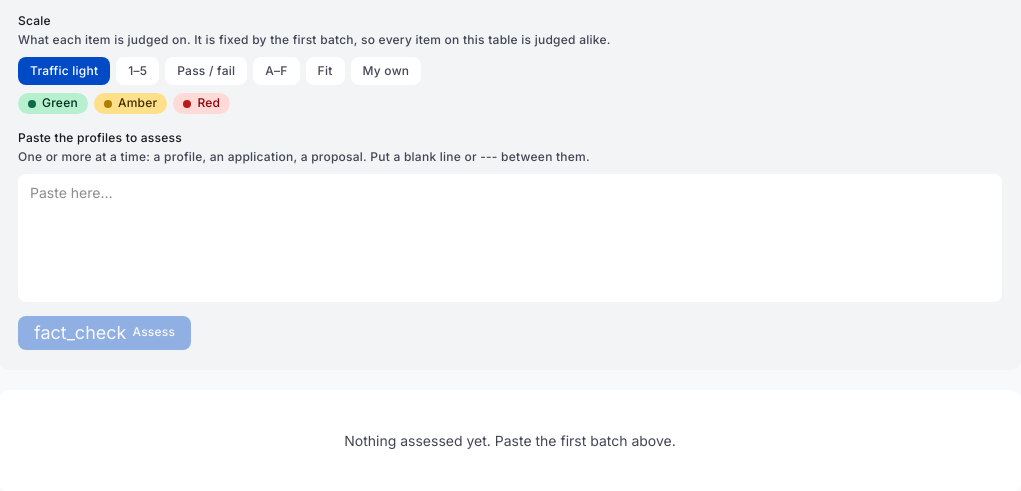
Test: the Assess stage (client, 25 Oct) › asks for a scale and a paste, and sends both
Click the radio button labelled "1–5". click: [138, 71]
box: [116,57,159,85]
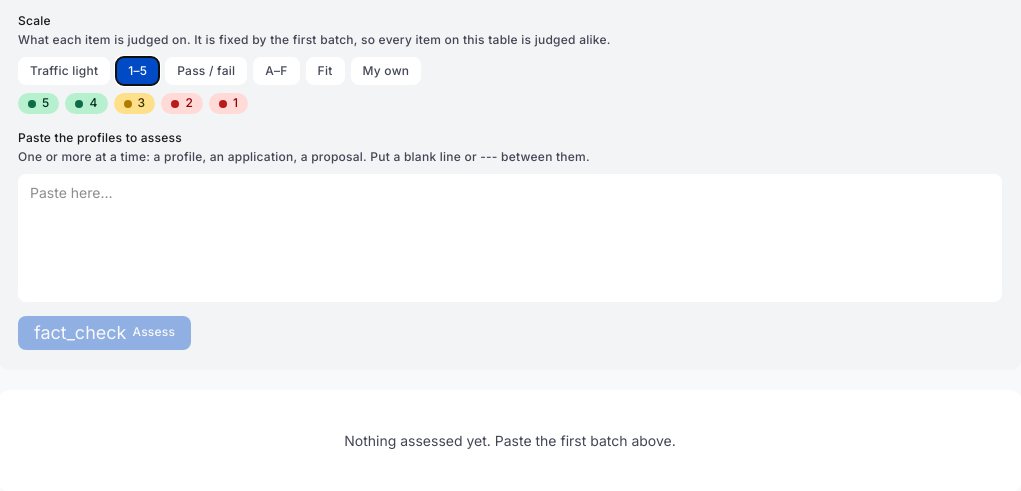
Type "Jane Doe — CFO" into the text box labelled "Paste the profiles to assess". click: [510, 238]
box: [18,174,1002,302]
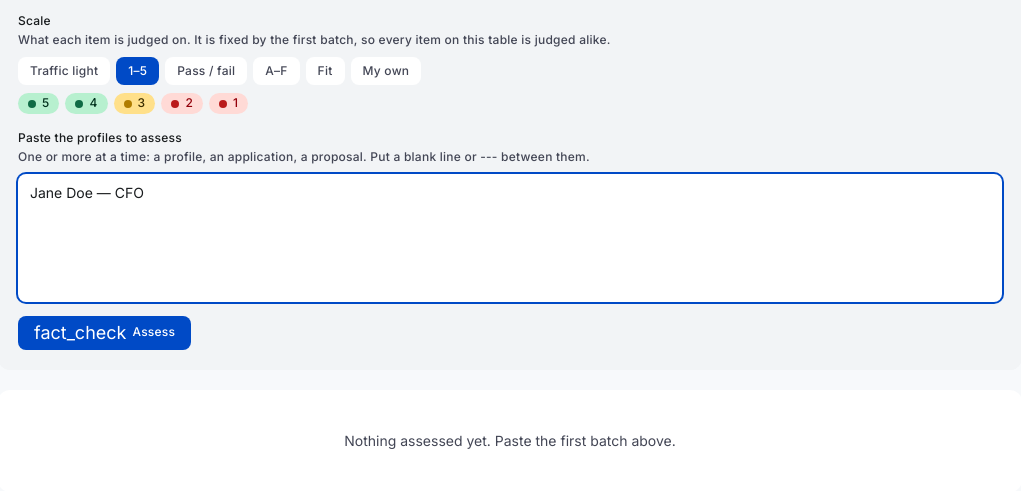
Click the button "fact_check Assess". click: [105, 333]
box: [18,316,191,350]
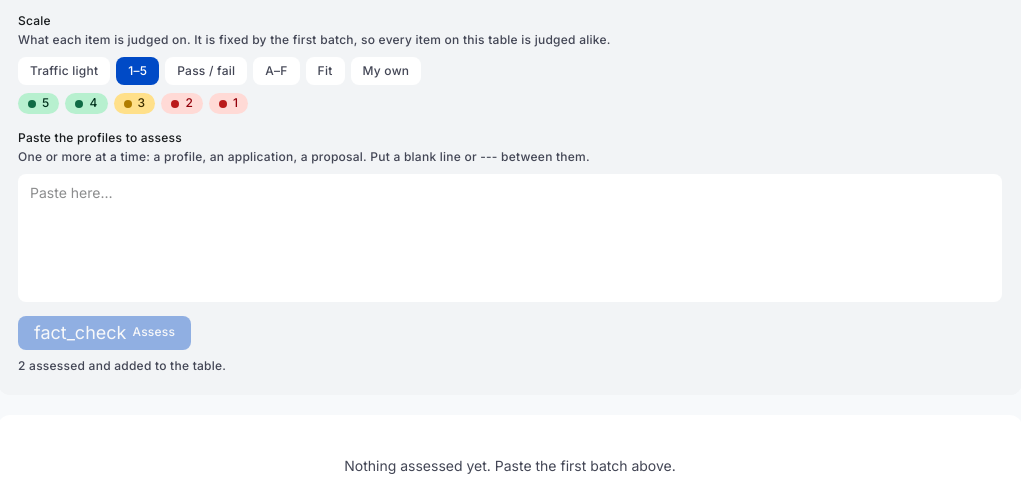
Expected: the text "2 assessed and added to the table." is shown, [18,358,226,373]
